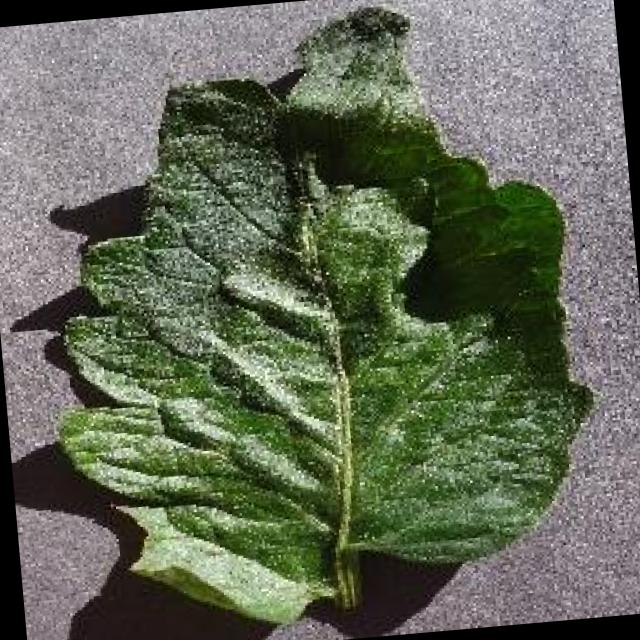Tomato_Healthy: (16, 0, 627, 639)
